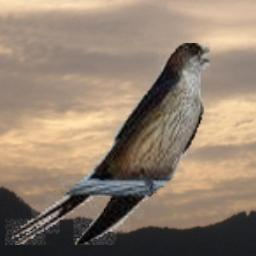Swallow: (5, 43, 210, 245)
